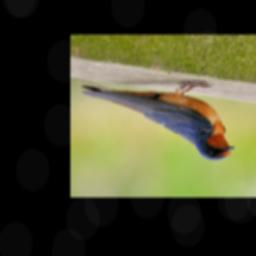Swallow: (80, 75, 238, 163)
